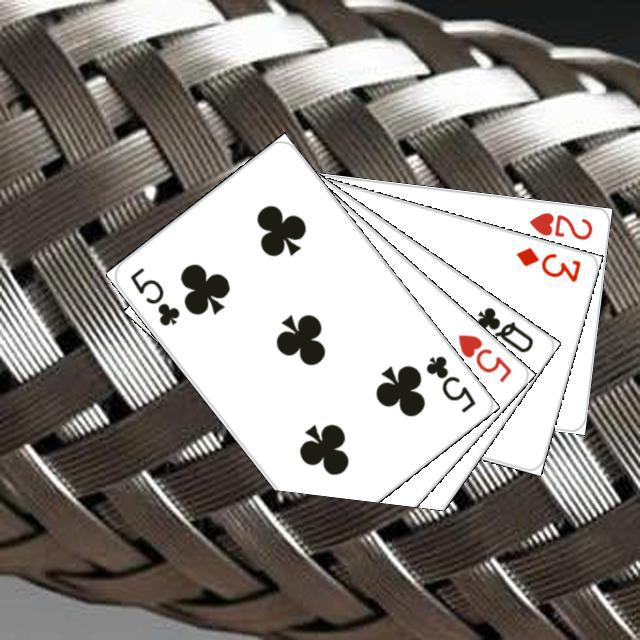2h: (524, 207, 595, 242)
3d: (511, 242, 583, 285)
5c: (124, 262, 182, 328), (420, 350, 478, 415)
5h: (452, 329, 514, 384)
Qc: (459, 301, 536, 360)
